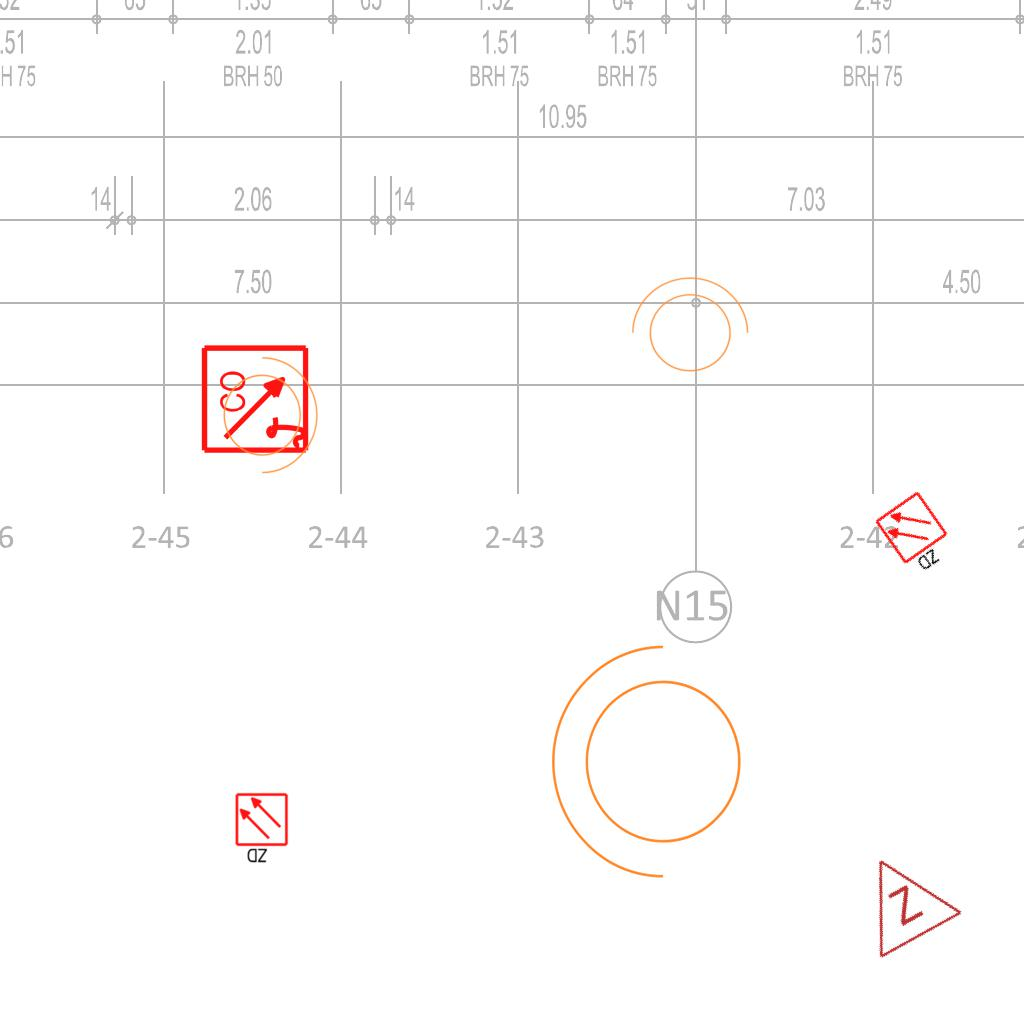ROA_Rauchmelder_optisch_mit_Signalgeber_(Sockelsirene): (200, 342, 313, 455)
Scheinwerfer_fuer_Alarmbeleuchtung: (541, 636, 766, 900), (621, 272, 753, 384), (211, 346, 323, 478)
ZD_Melder_in_Zwischendecke_mit_Revisionsoeffnung_mind_40_x_40_cm: (872, 488, 963, 582), (234, 792, 291, 866)
Zimmersignalleuchte: (832, 831, 968, 967)
